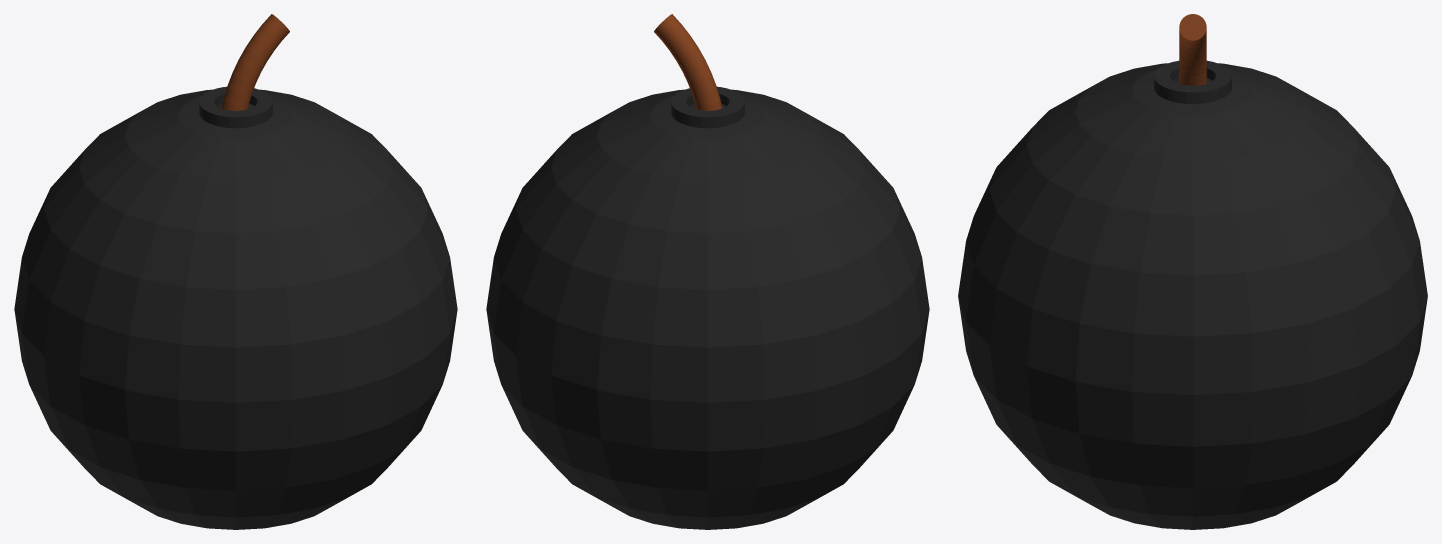
Rendered from bomb.fbx.
3 views of the same model, side by side, from view 1: azimuth 30°, elevation 25°; view 2: azimuth 150°, elevation 25°; view 3: azimuth 270°, elevation 25° (orthographic). The views are drawn at different scales.
Visible parts, largest first — view 1: bomb; view 2: bomb; view 3: bomb.
Boxes of the visible parts, box(x1,y1,x2,y2) form: bomb: box(14, 14, 457, 529); bomb: box(486, 14, 929, 529); bomb: box(958, 14, 1427, 529).
Bounding box in the file's own units: 200 × 242 × 200.
